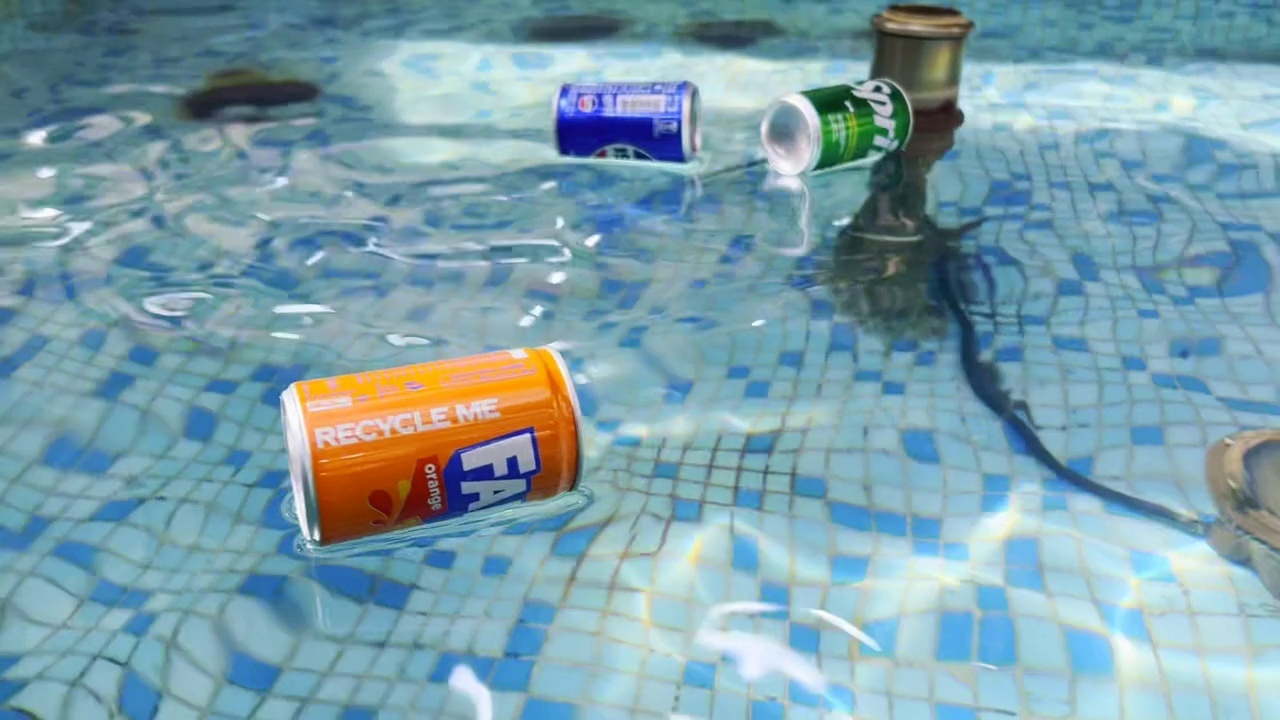debris: (263, 342, 592, 560), (759, 64, 920, 187), (550, 68, 707, 174)
